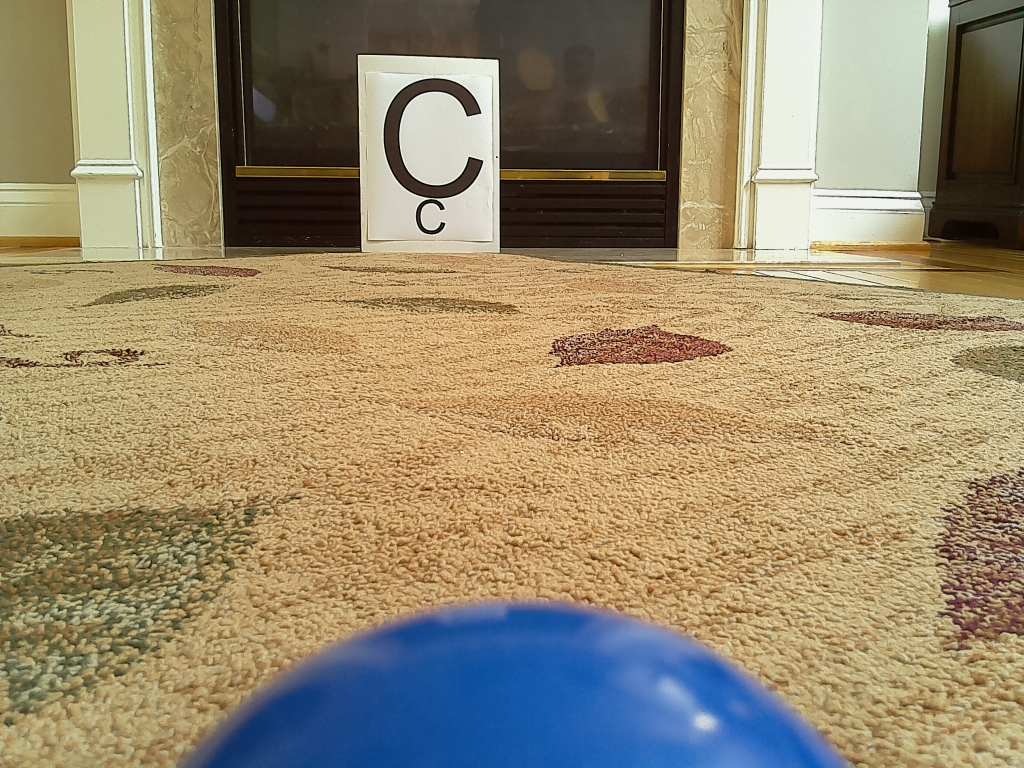letter: (384, 79, 484, 200)
